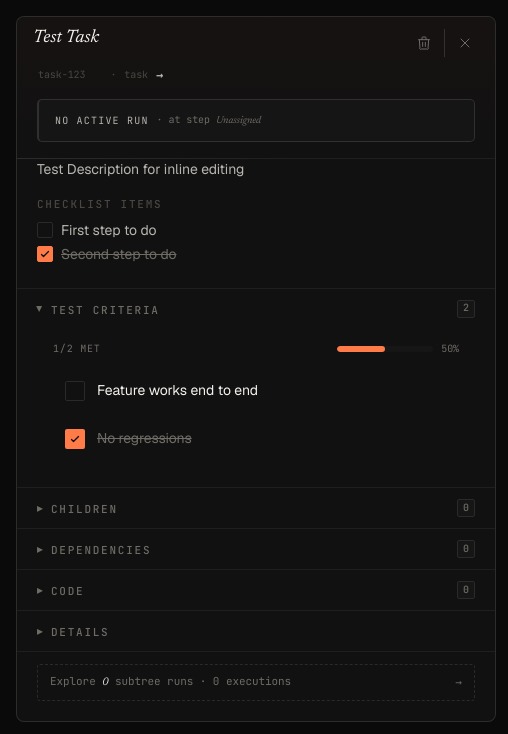
Test: TaskDetailPanel - Inline Editing Integration › Details section - Inline editing UX › clicking tags shows input immediately with warning dot and check/X icons
(page scrolled)
Step 1. Click the button with aria-label "toggle details section" → coordinates (80, 632), box [17,611,495,651]
(page scrolled)
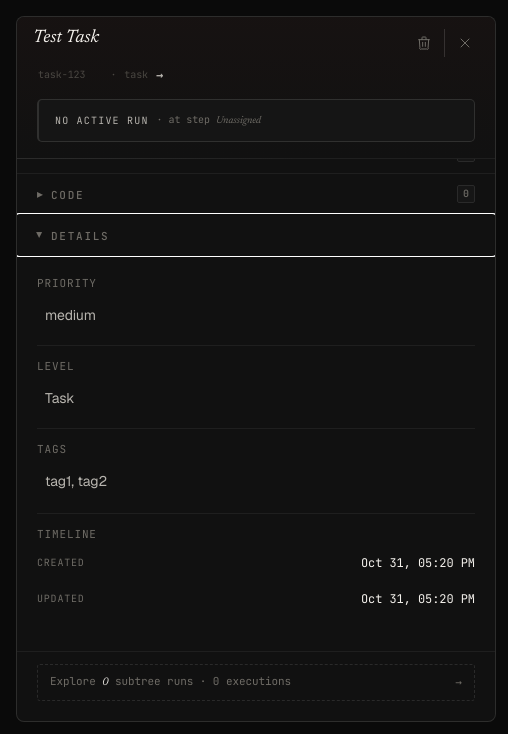
Note: Find the tags display and click it
Step 2. Click the text "tag1, tag2" → coordinates (76, 481), box [45,472,107,490]
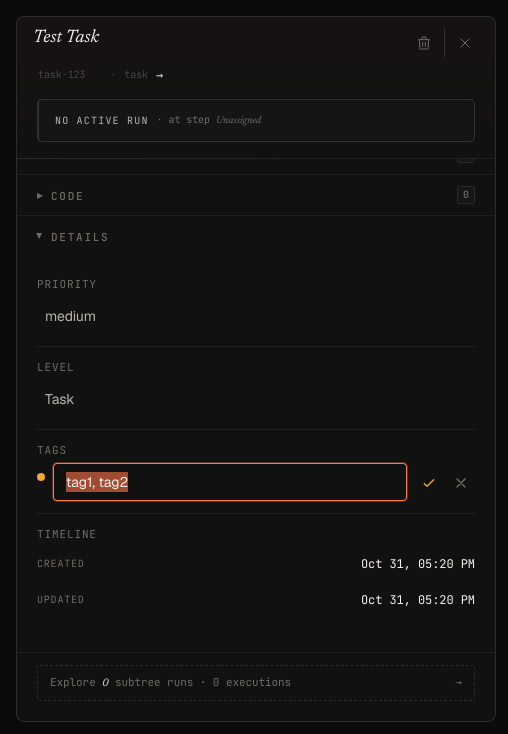
Expected: the field holds "tag1, tag2", [53,463,407,501]
Expected: the button named "save" is shown, [415,469,443,497]
Expected: the button named "cancel" is shown, [447,469,475,497]
